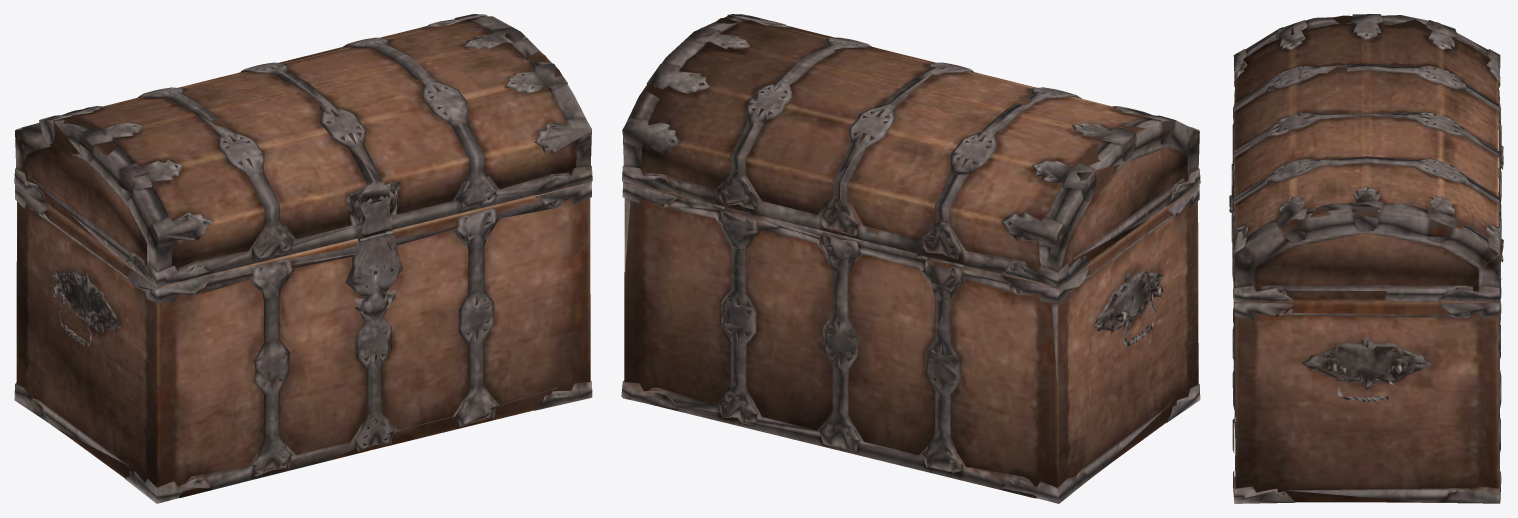
The model's file is treasure_chest.glb.
3 renders of one model, left to right at view 1: azimuth 30°, elevation 25°; view 2: azimuth 150°, elevation 25°; view 3: azimuth 270°, elevation 25°, orthographic. The views are drawn at different scales.
Parts seen in each view (by area): view 1: treasure_chest_bottom; view 2: treasure_chest_bottom; view 3: treasure_chest_bottom.
Part boxes in pixels (x1,y1,x2,y2): treasure_chest_bottom: (14, 14, 592, 503); treasure_chest_bottom: (621, 14, 1200, 503); treasure_chest_bottom: (1229, 14, 1503, 503).
Size of the model in its own units: 0.9551 by 0.6162 by 0.5223.
1 material, 1 textured.
